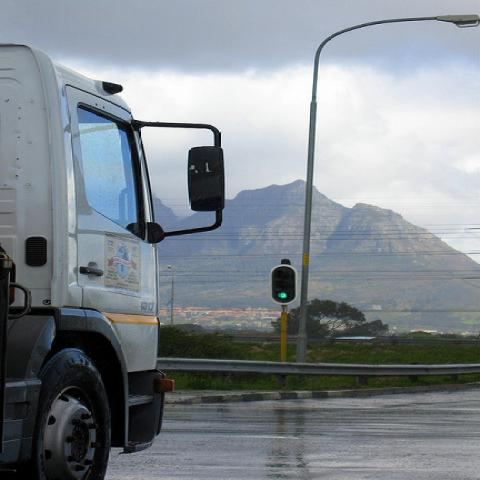truck: (0, 42, 231, 473)
